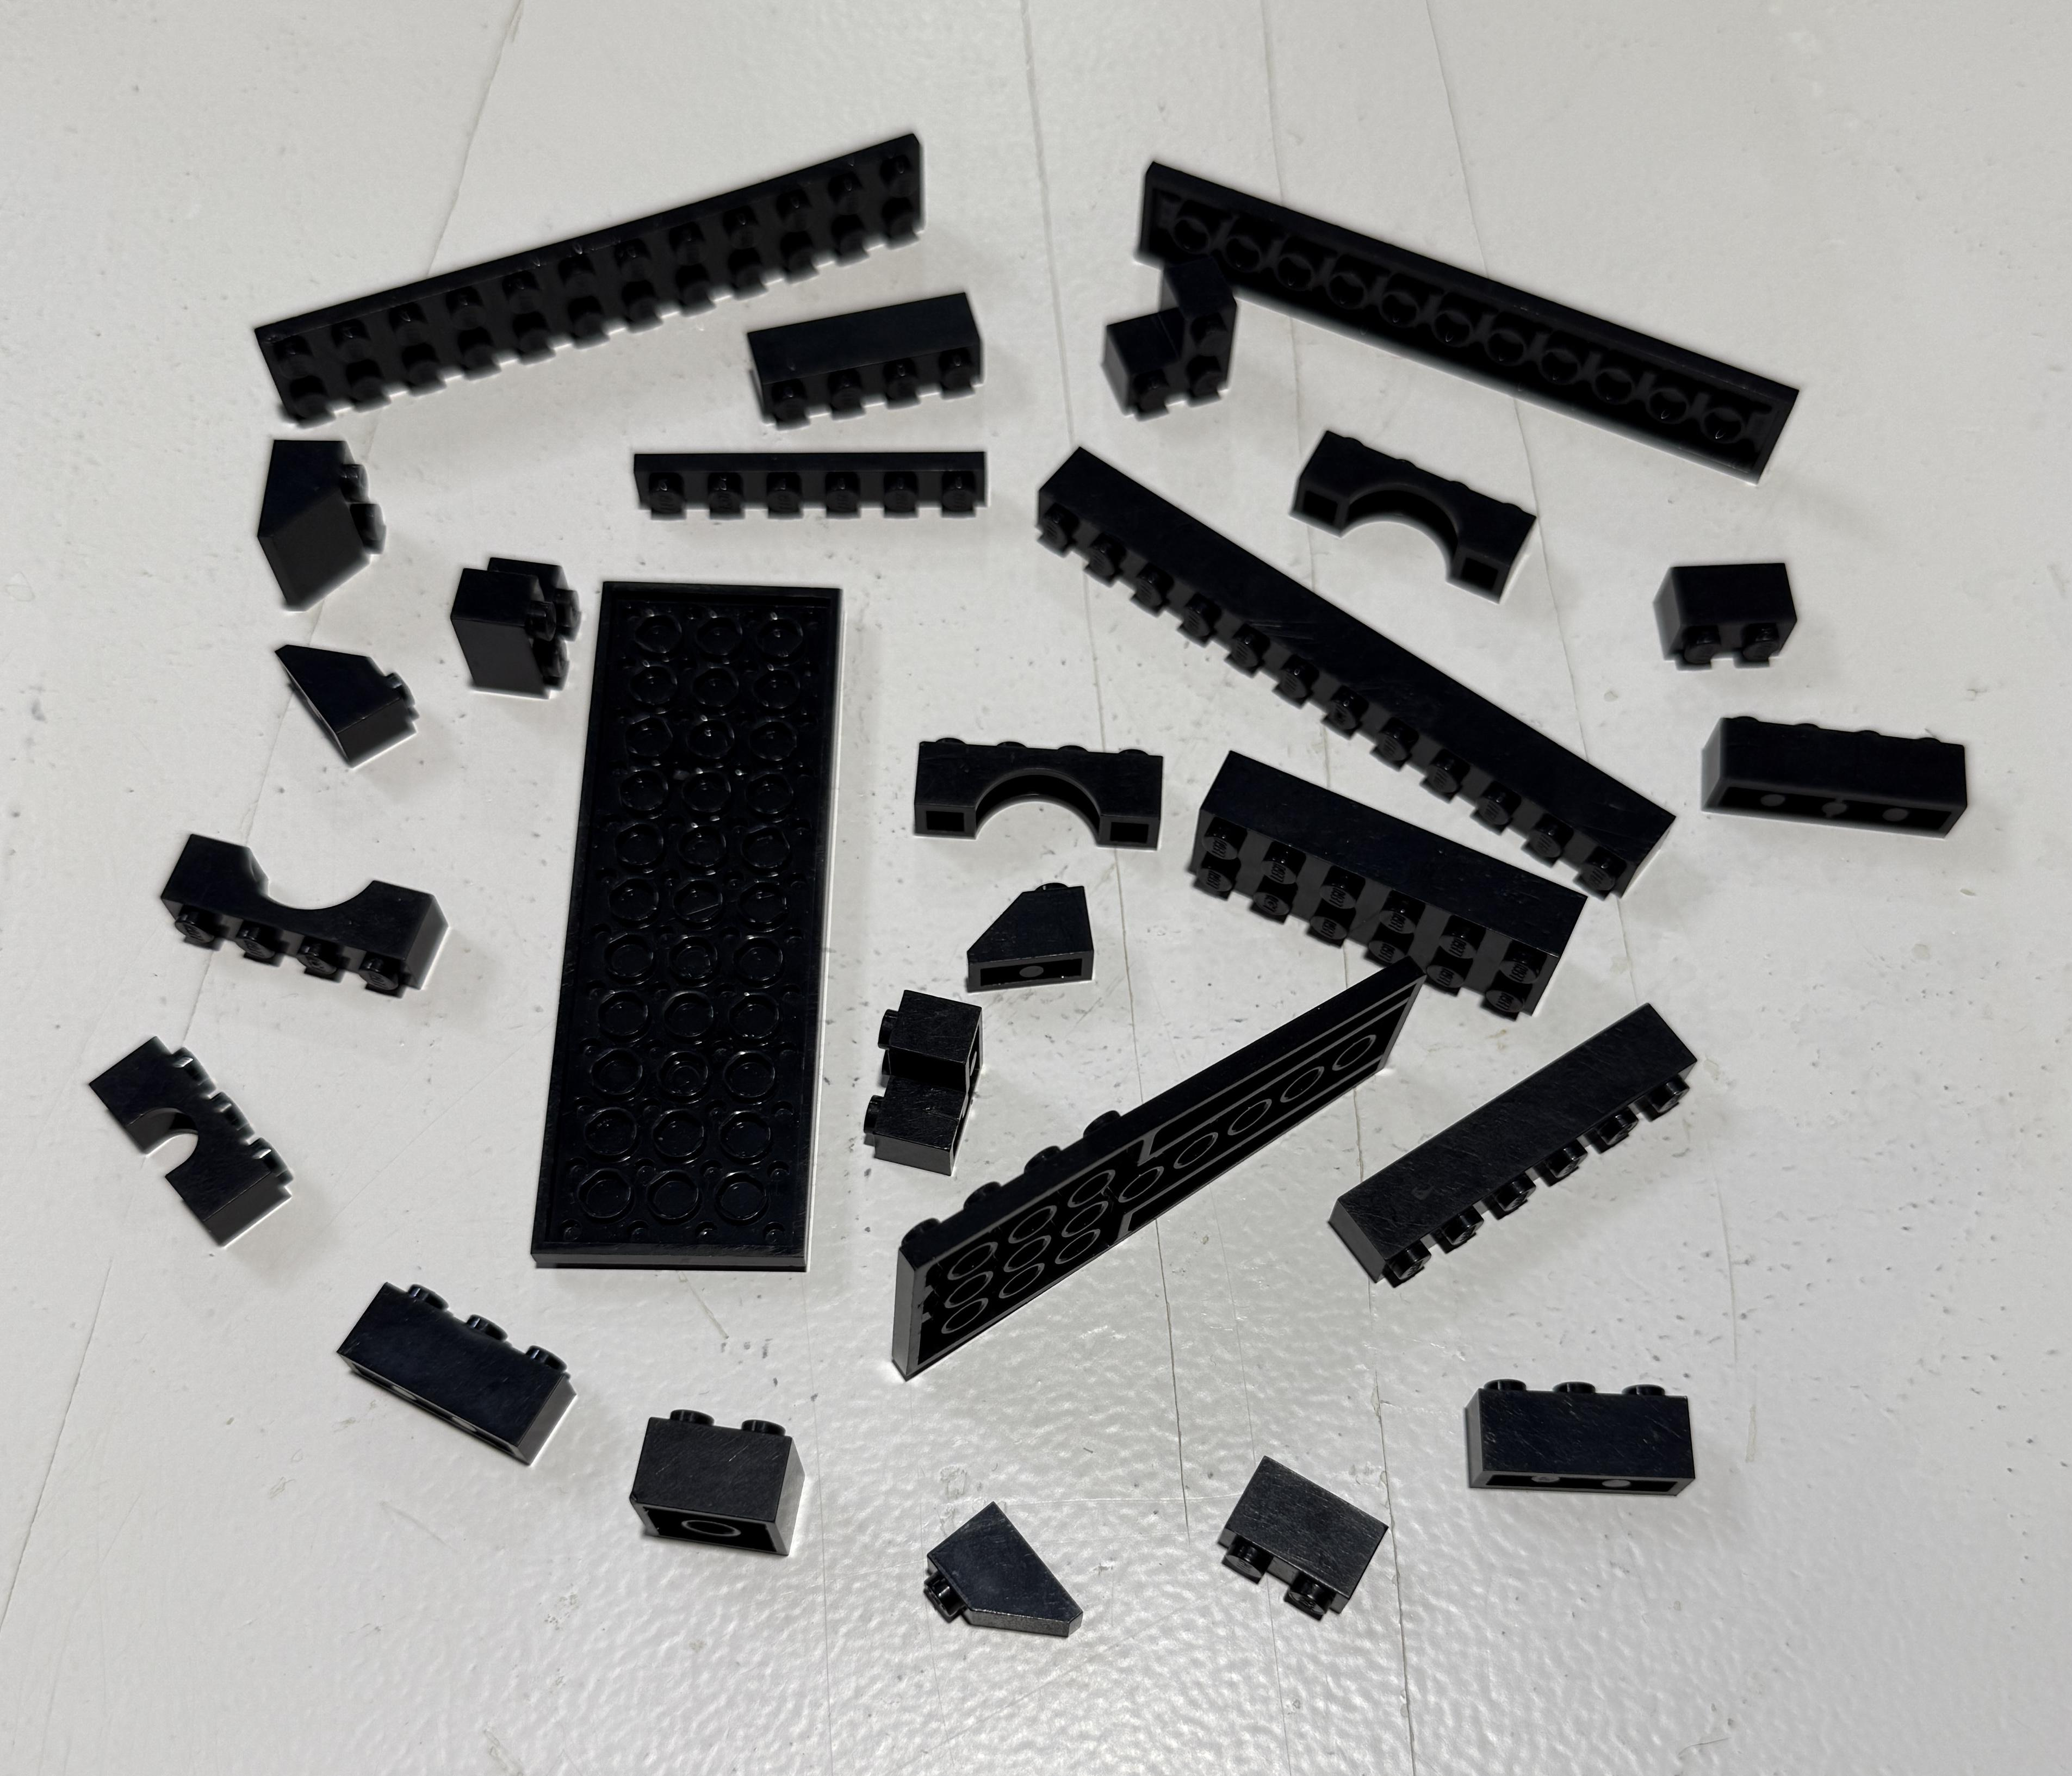brick_1x2: (1195, 1439, 1436, 1647), (610, 1376, 830, 1573), (1640, 539, 1827, 692)
brick_1x3: (1434, 1351, 1795, 1540), (315, 1246, 583, 1480)
brick_1x4: (731, 264, 1008, 440)
